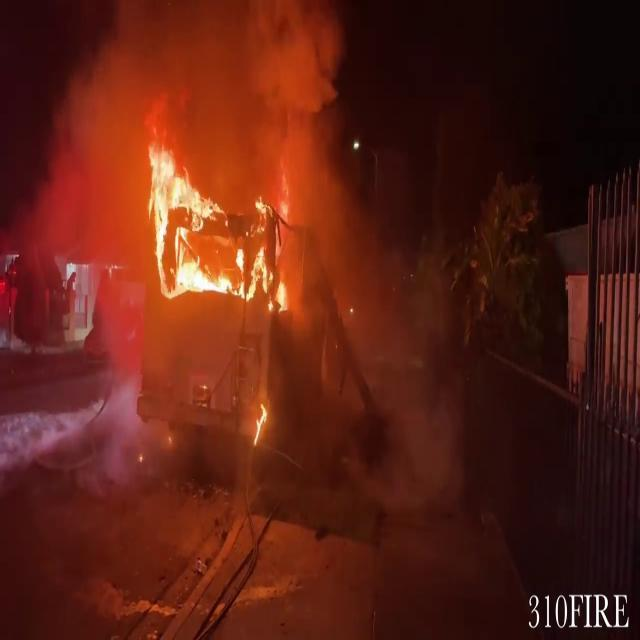Fire: (138, 121, 296, 312)
Smoke: (258, 1, 484, 490), (39, 0, 354, 215)
